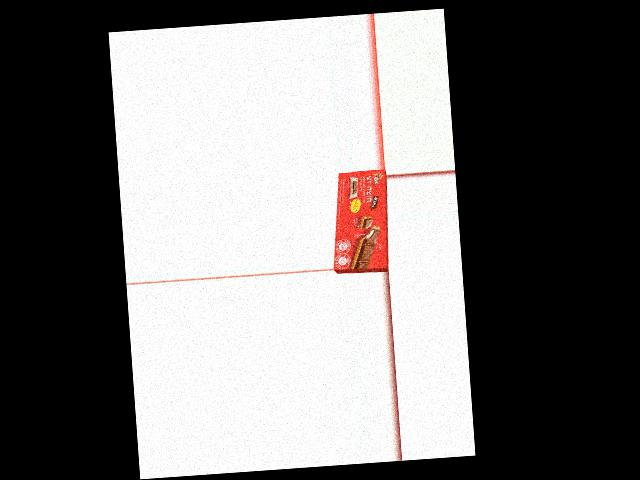chocolate: (332, 168, 388, 273)
